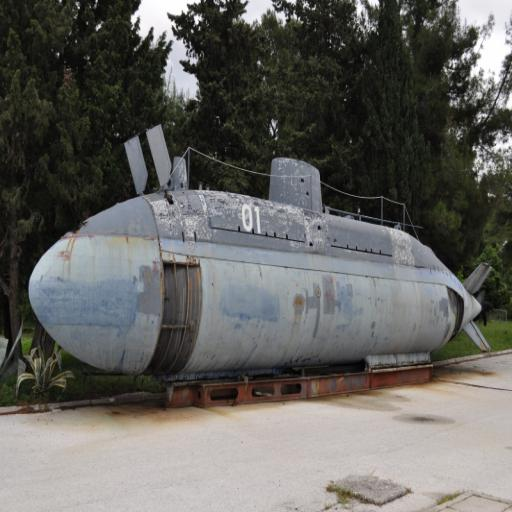submarine: (29, 126, 493, 375)
